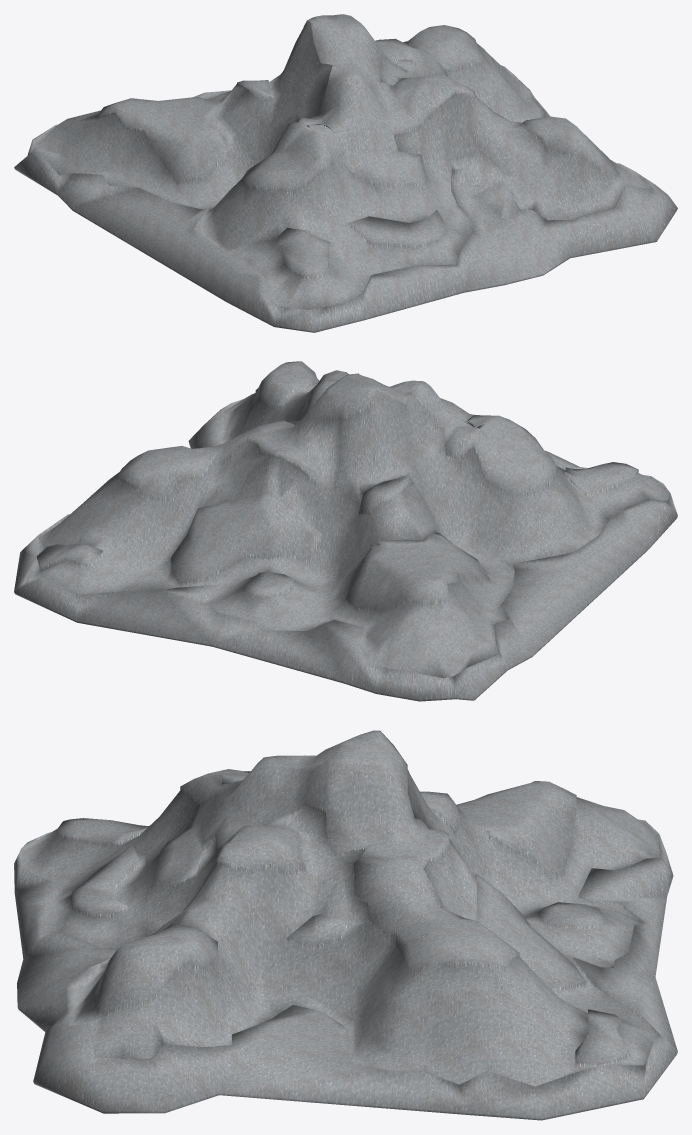
File: BLOCKYGON_MOUTAIN.fbx
The picture shows the model from 3 angles, top to bottom: view 1: azimuth 30°, elevation 25°; view 2: azimuth 150°, elevation 25°; view 3: azimuth 270°, elevation 25°; orthographic projection. The views are drawn at different scales.
Visible parts, largest first — view 1: BLOCKYGON_MOUTAIN; view 2: BLOCKYGON_MOUTAIN; view 3: BLOCKYGON_MOUTAIN.
Part boxes in pixels (x1,y1,x2,y2): BLOCKYGON_MOUTAIN: (14, 14, 677, 332); BLOCKYGON_MOUTAIN: (14, 361, 677, 701); BLOCKYGON_MOUTAIN: (14, 730, 677, 1120).
Bounding box in the file's own units: 10689 × 3835 × 10347.
1 material, 1 textured.
